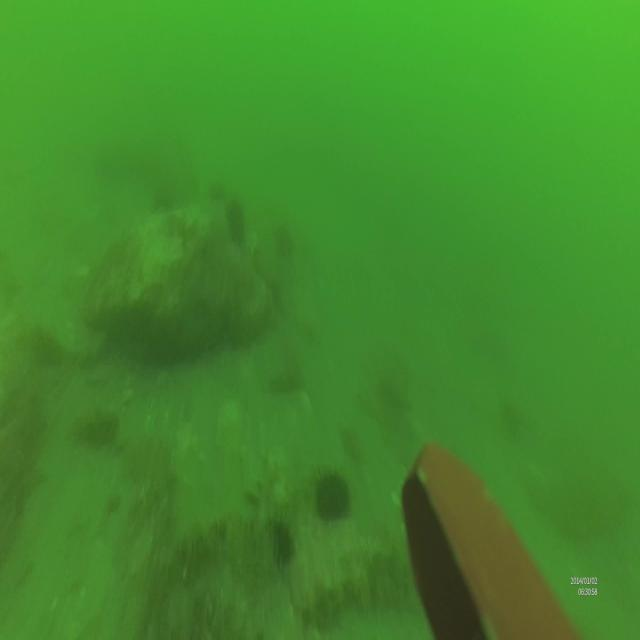echinus: (311, 461, 351, 522), (222, 196, 248, 248), (268, 518, 296, 565)
